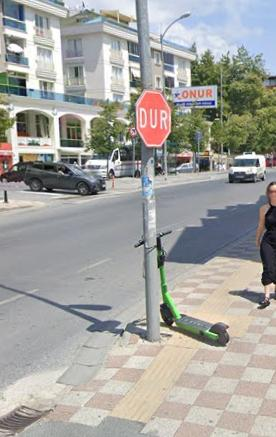stop: (136, 90, 172, 148)
